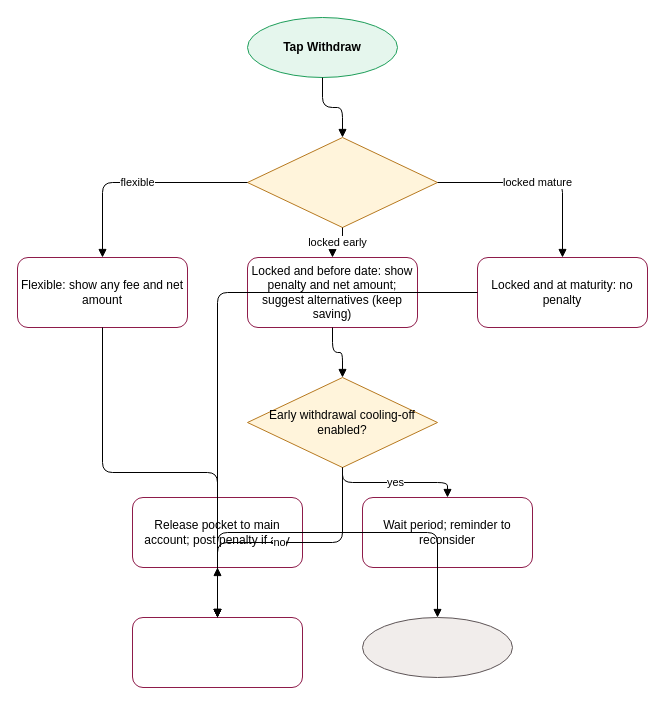
Image size: 665x705. Some labels were removed from this diagram. Here are the shapes that lost their labels. From the top down, the centre of each, then its label:
(342,182): Mode and date
(217,652): Confirm with PIN
(437,647): Goal updated or closed
